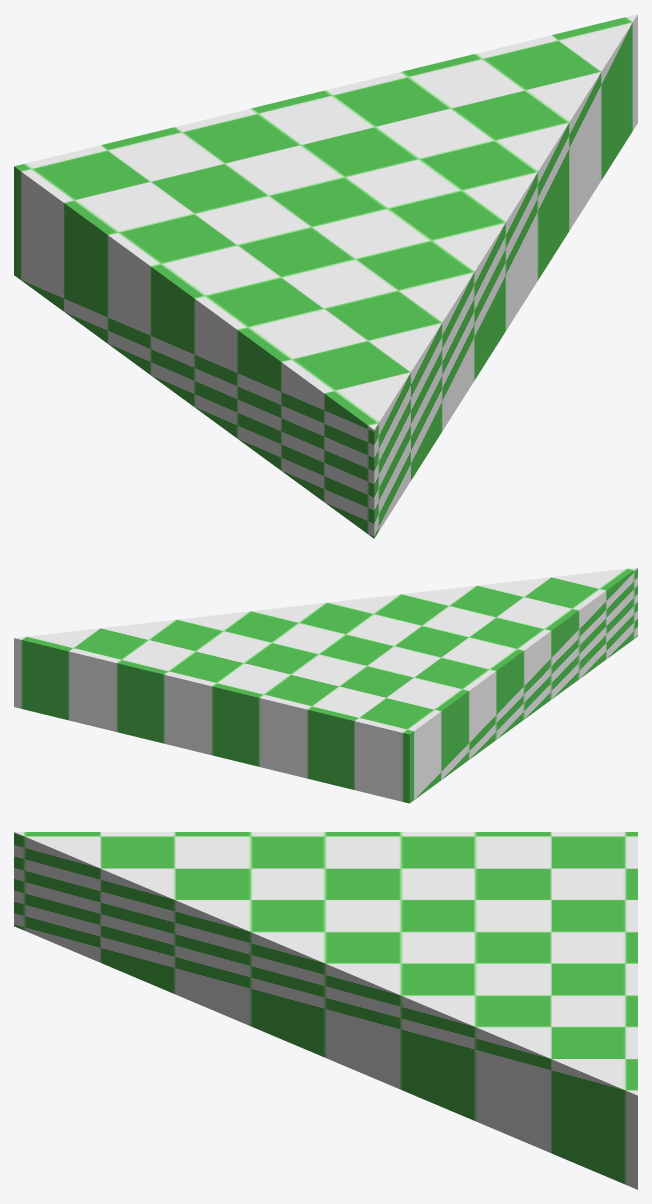
The model's file is ObservatoryRoof.fbx.
3 views of the same model, one above another, from view 1: azimuth 30°, elevation 25°; view 2: azimuth 150°, elevation 25°; view 3: azimuth 270°, elevation 25° (orthographic). The views are drawn at different scales.
Parts seen in each view (by area): view 1: ObservatoryRoof; view 2: ObservatoryRoof; view 3: ObservatoryRoof.
Part boxes in pixels (x1=…): ObservatoryRoof: x1=14, y1=14, x2=637, y2=538; ObservatoryRoof: x1=14, y1=567, x2=637, y2=803; ObservatoryRoof: x1=14, y1=832, x2=637, y2=1189.
Size of the model in its own units: 118 by 118 by 19.69.
1 material, 1 textured.
